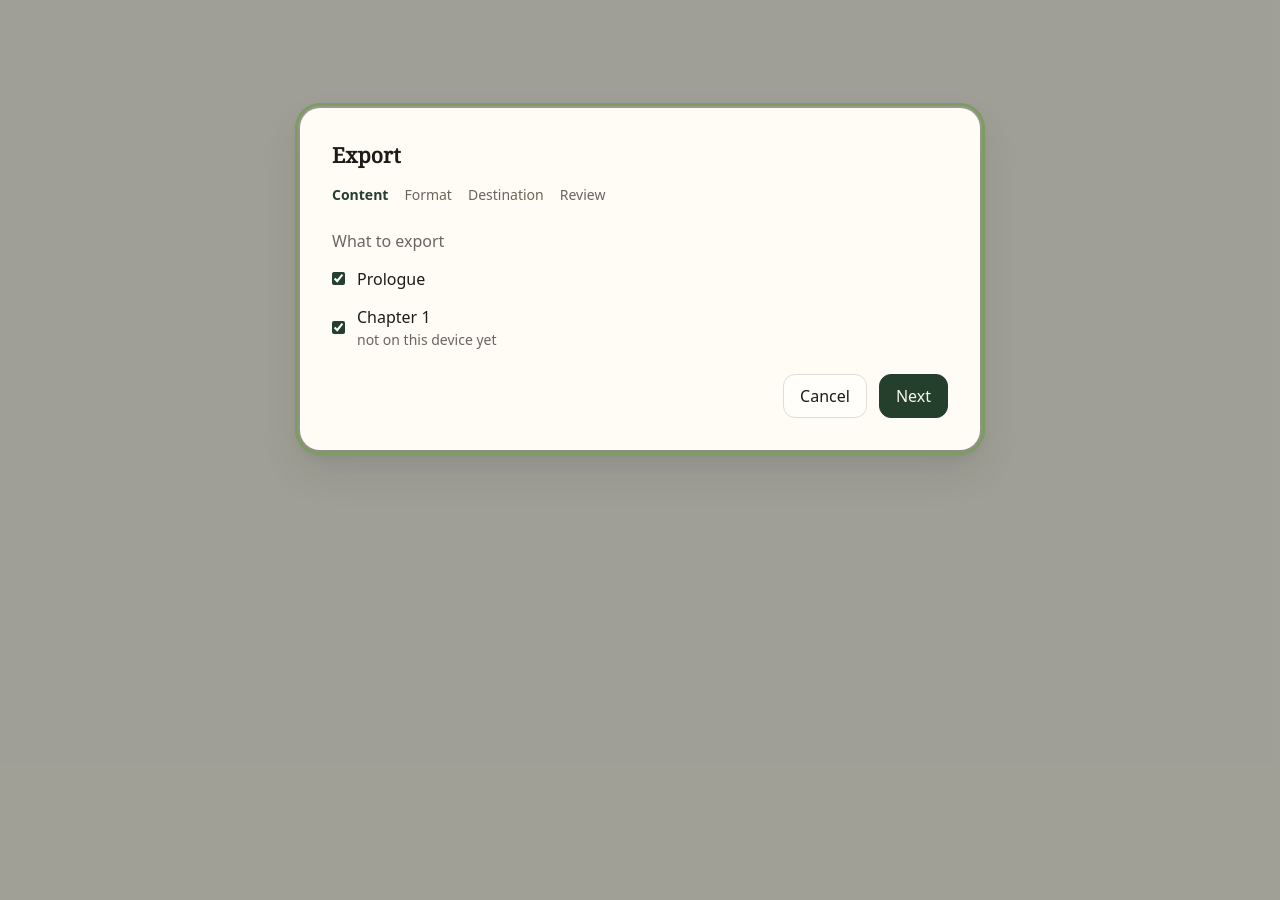
Test: Export › ignores a stale preview older same-destination success after a newer generation
Expected: the dialog "Export" is shown, [300, 108, 980, 450]
Click the button "Next" at (913, 396), box [879, 374, 948, 418]
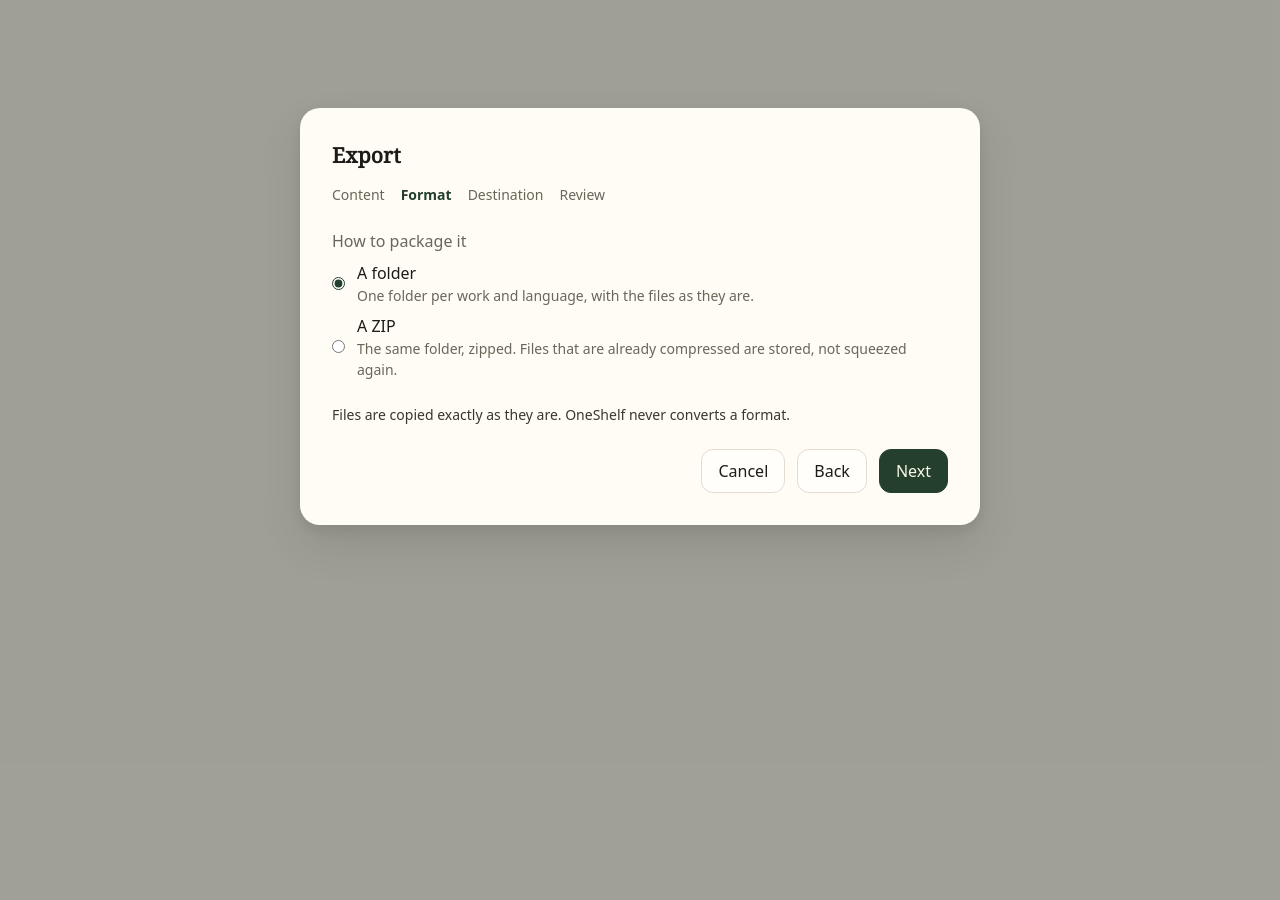
Click the button "Next" at (913, 470), box [879, 448, 948, 492]
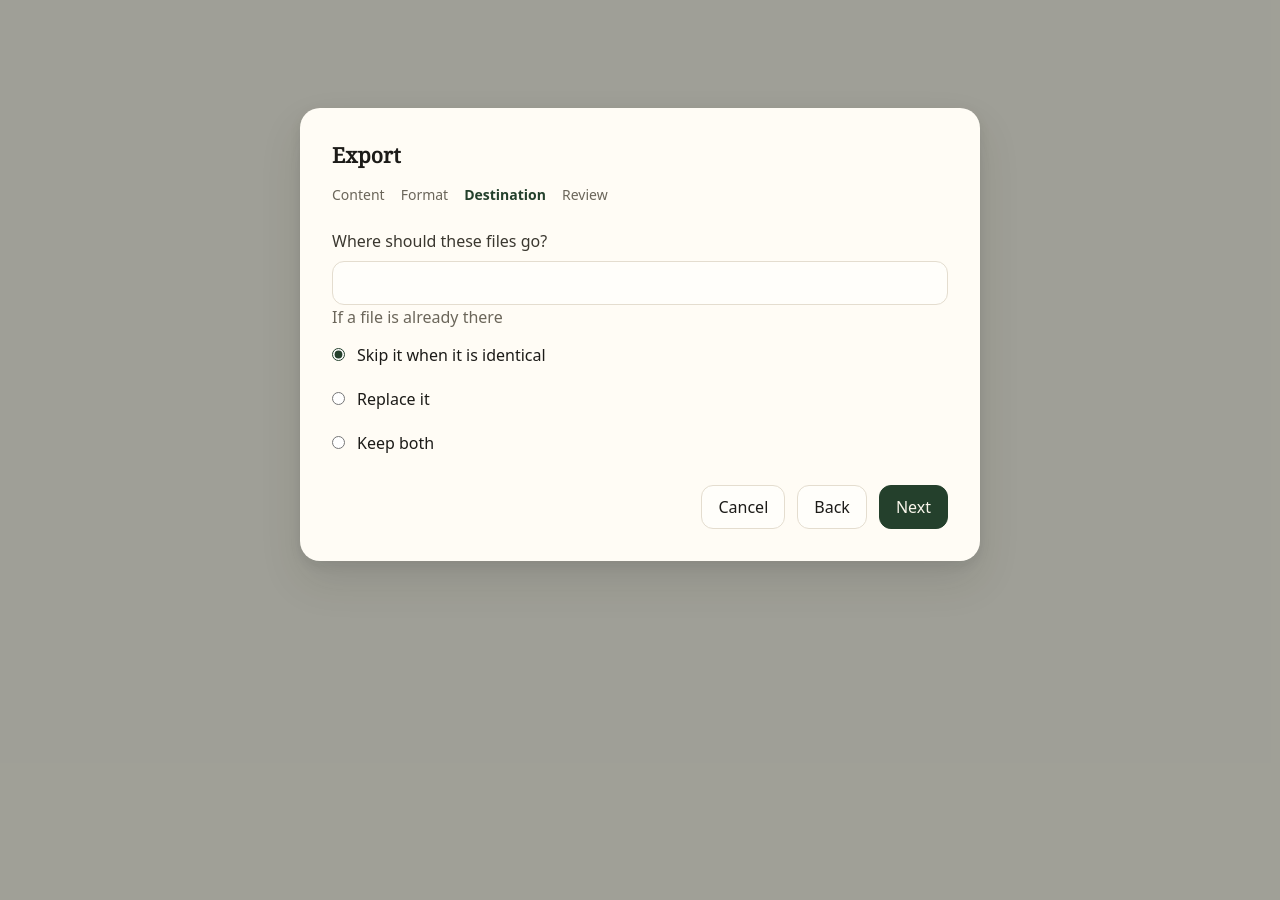
Type "/A" into the field at (640, 282), box [332, 260, 948, 304]
Click the button "Next" at (913, 506), box [879, 484, 948, 528]
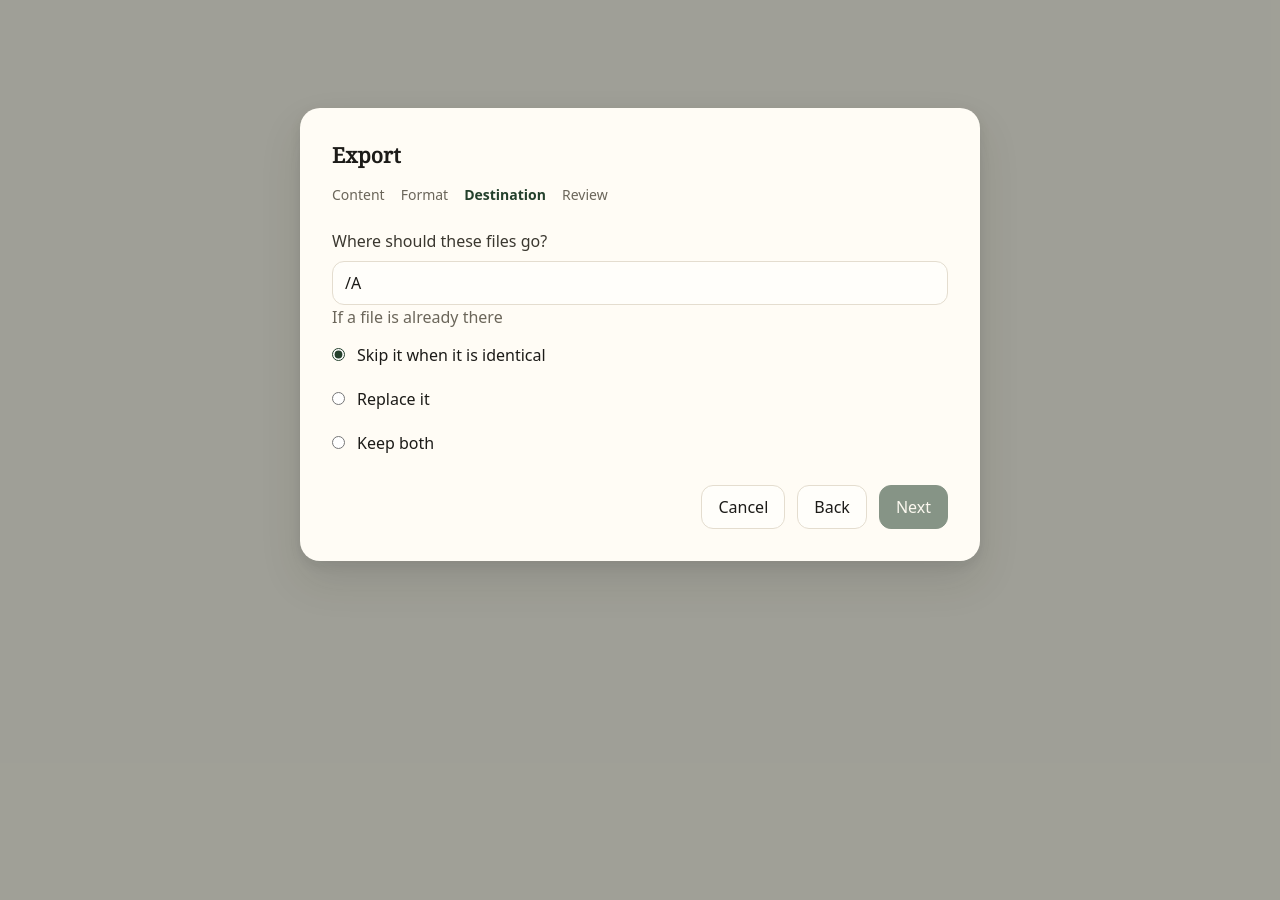
Replace the text in the field with "/B" at (640, 282), box [332, 260, 948, 304]
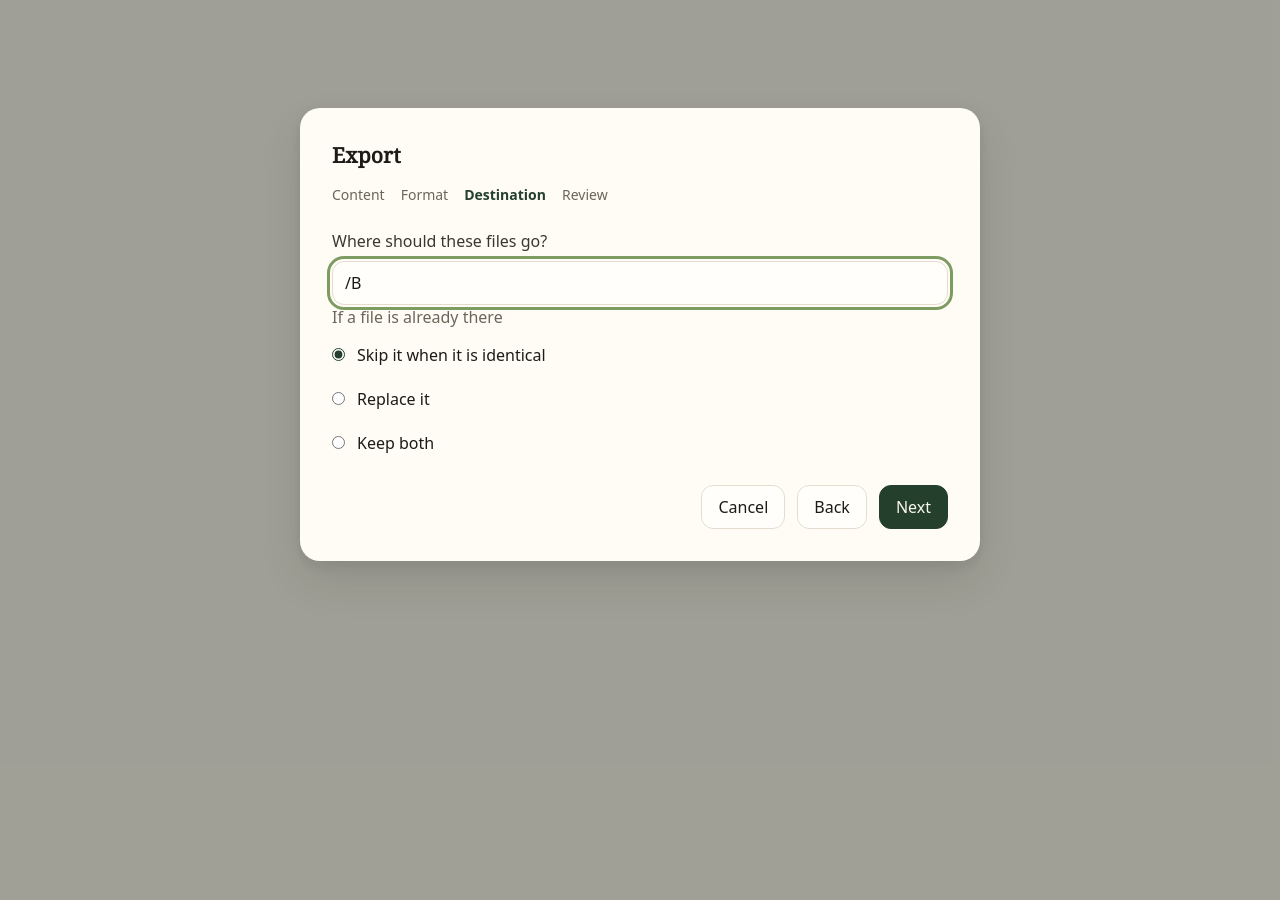
Replace the text in the field with "/A" at (640, 282), box [332, 260, 948, 304]
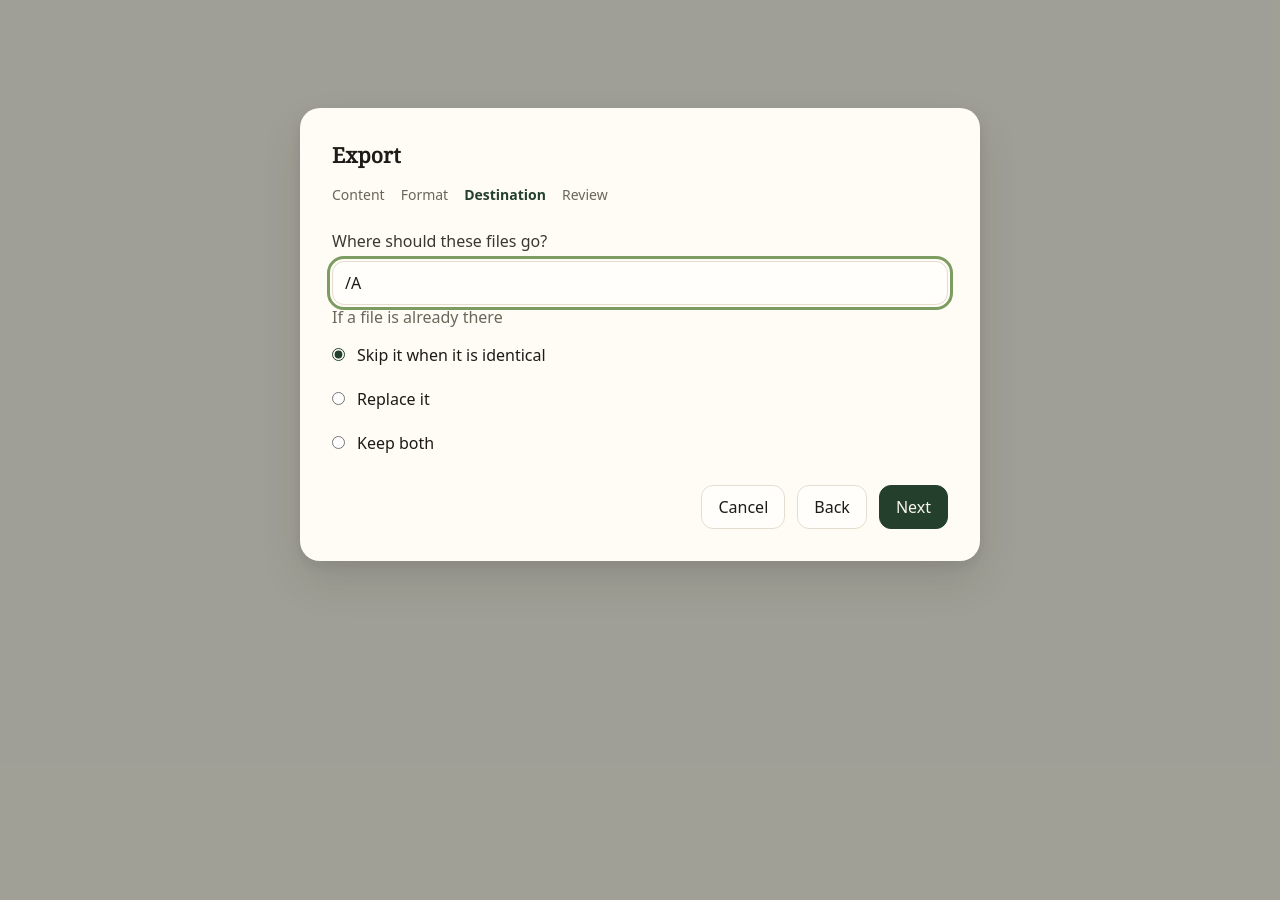
Click the button "Next" at (913, 506), box [879, 484, 948, 528]
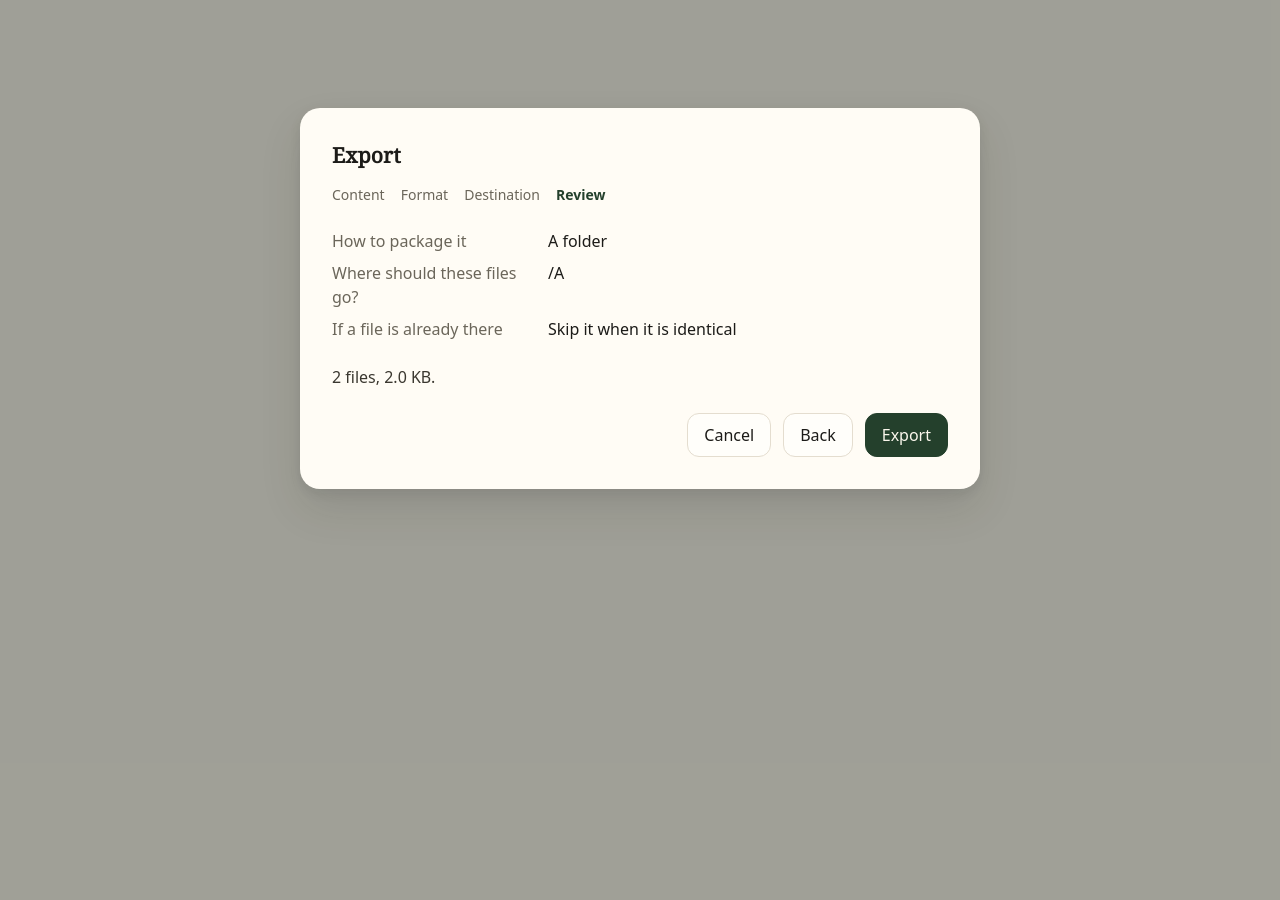
Expected: the text "2 files, 2.0 KB." is shown, [332, 366, 435, 388]
